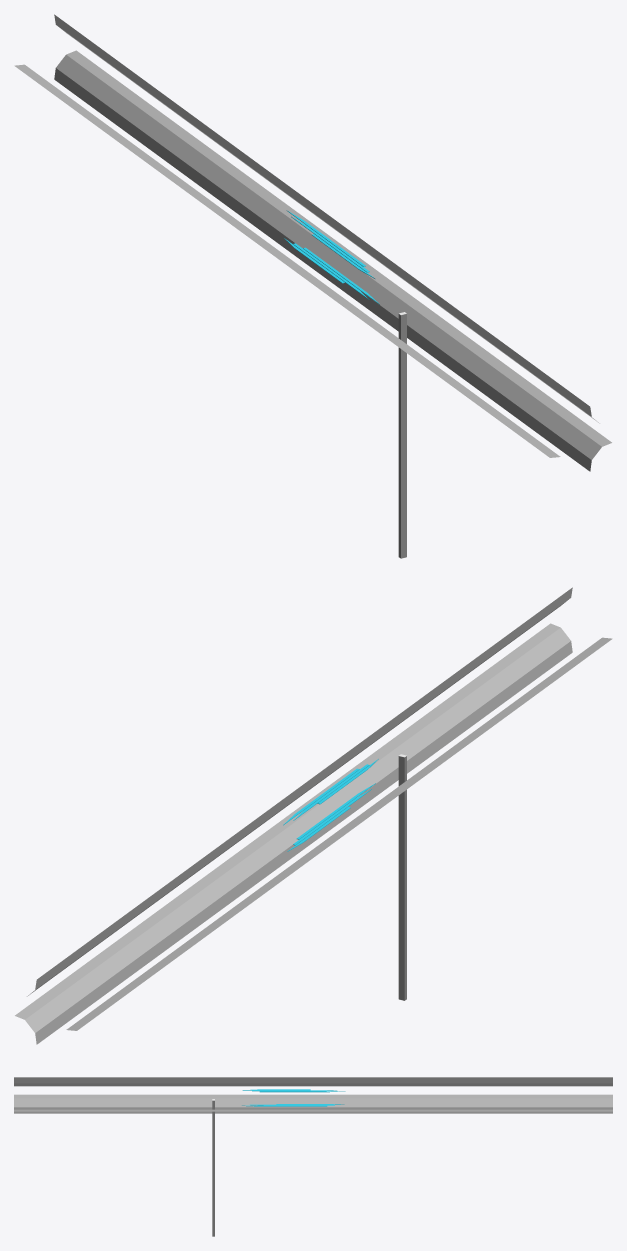
File: skrillex.glb
The picture shows the model from 3 angles, top to bottom: view 1: azimuth 30°, elevation 25°; view 2: azimuth 150°, elevation 25°; view 3: azimuth 270°, elevation 25°; orthographic projection. The views are drawn at different scales.
Parts seen in each view (by area): view 1: Construction, PlaneC (17), PlaneC (6), PlaneC (8), PlaneC (12), PlaneC (16), PlaneC (5), PlaneC (9), PlaneC (10), PlaneC (13), PlaneC (14), PlaneC (7) (+7 smaller); view 2: Construction, PlaneC (12), PlaneC (9), PlaneC (11), PlaneC (13), PlaneC (14), PlaneC (17), PlaneC (8), PlaneC (15), PlaneC (5), PlaneC (6), PlaneC (10) (+8 smaller); view 3: PlaneC (6) (×2), PlaneC (11) (×2), PlaneC (16) (×2), PlaneC (4) (×2), PlaneC (5) (×2), PlaneC (8) (×2), PlaneC (10) (×2), PlaneC (12) (×2), PlaneC (13) (×2), PlaneC (14) (×2), PlaneC (15) (×2), PlaneC (17) (×2) (+8 smaller).
Part boxes in pixels (x1,y1,x2,y2): Construction: [398, 314, 406, 558]; PlaneC (17): [54, 50, 105, 100]; PlaneC (6): [203, 159, 254, 209]; PlaneC (8): [441, 334, 492, 384]; PlaneC (12): [560, 421, 611, 471]; PlaneC (16): [84, 72, 135, 122]; PlaneC (5): [233, 181, 284, 231]; PlaneC (9): [471, 355, 522, 406]; PlaneC (10): [501, 377, 552, 427]; PlaneC (13): [173, 137, 224, 187]; PlaneC (14): [143, 116, 194, 166]; PlaneC (7): [411, 312, 463, 362]; Construction: [398, 756, 406, 1000]; PlaneC (12): [521, 623, 572, 673]; PlaneC (9): [432, 689, 483, 739]; PlaneC (11): [491, 645, 542, 695]; PlaneC (13): [134, 907, 185, 957]; PlaneC (14): [104, 928, 155, 979]; PlaneC (17): [15, 994, 66, 1044]; PlaneC (8): [402, 710, 453, 760]; PlaneC (15): [74, 950, 125, 1000]; PlaneC (5): [193, 863, 244, 913]; PlaneC (6): [163, 885, 215, 935]; PlaneC (10): [461, 667, 512, 717]; PlaneC (6) (×2): [413, 1077, 446, 1113]; PlaneC (11) (×2): [47, 1077, 80, 1113]; PlaneC (16) (×2): [546, 1077, 579, 1113]; PlaneC (4) (×2): [346, 1077, 379, 1113]; PlaneC (5) (×2): [380, 1077, 413, 1113]; PlaneC (8) (×2): [147, 1077, 180, 1113]; PlaneC (10) (×2): [80, 1077, 113, 1113]; PlaneC (12) (×2): [14, 1077, 47, 1113]; PlaneC (13) (×2): [446, 1077, 479, 1113]; PlaneC (14) (×2): [480, 1077, 513, 1113]; PlaneC (15) (×2): [513, 1077, 546, 1113]; PlaneC (17) (×2): [579, 1077, 612, 1113].
Bounding box in the file's own units: 30.5 × 130 × 450.
